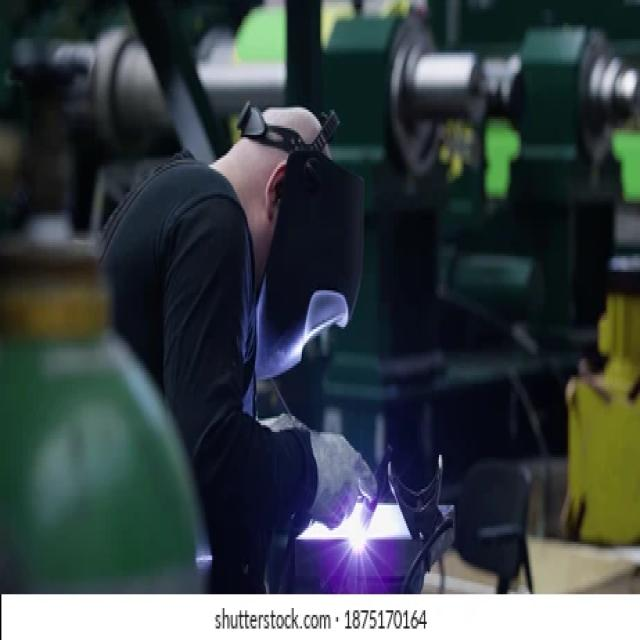welding: (344, 517, 366, 553)
